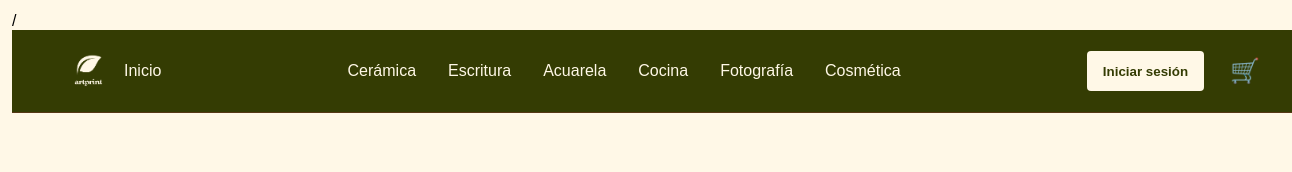
Test case: Navbar › debería navegar al login cuando se hace clic en el botón de inicio de sesión
Click the button "Iniciar sesión": [1145, 71] box [1087,51,1204,91]
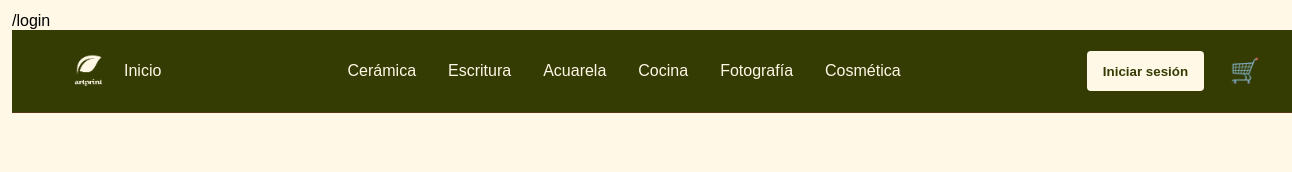
Expected: the text with test id "location-display" reads "/login", [12,12,50,29]
